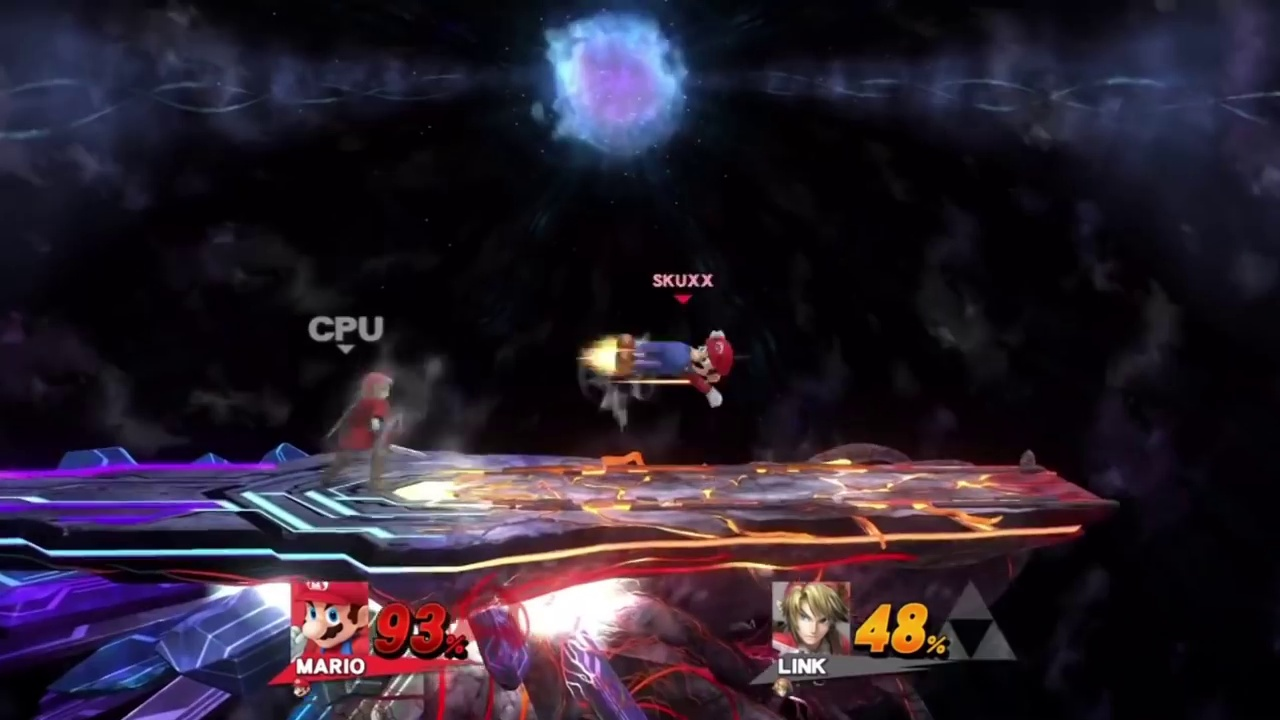Mario: (613, 324, 732, 407)
